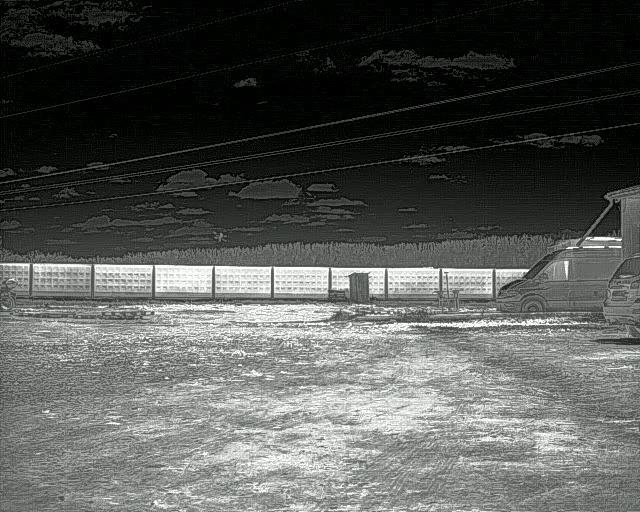ufo-thermal: (213, 232, 228, 244)
